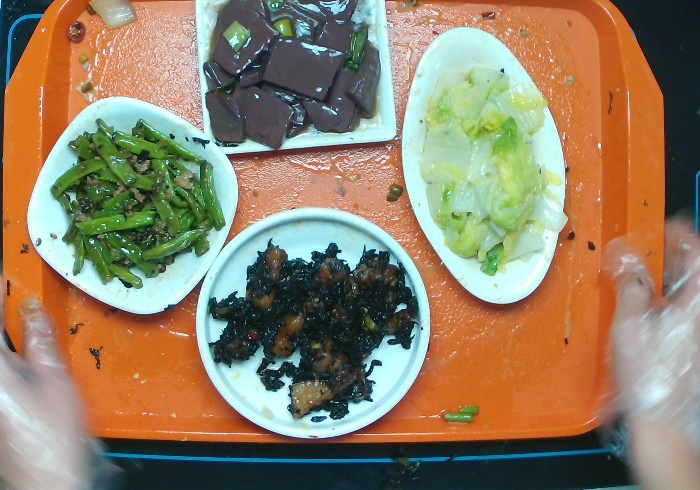HZYJPL-Si_Fang_Die: (192, 3, 396, 154)
HZYJPL-Si_Fang_Yuan_Die: (25, 93, 238, 317)
HZYJPL-Xiao_Yu_Die: (400, 27, 568, 304)
HZYJPL-Xiao_Yuan_Die: (193, 206, 433, 441)
